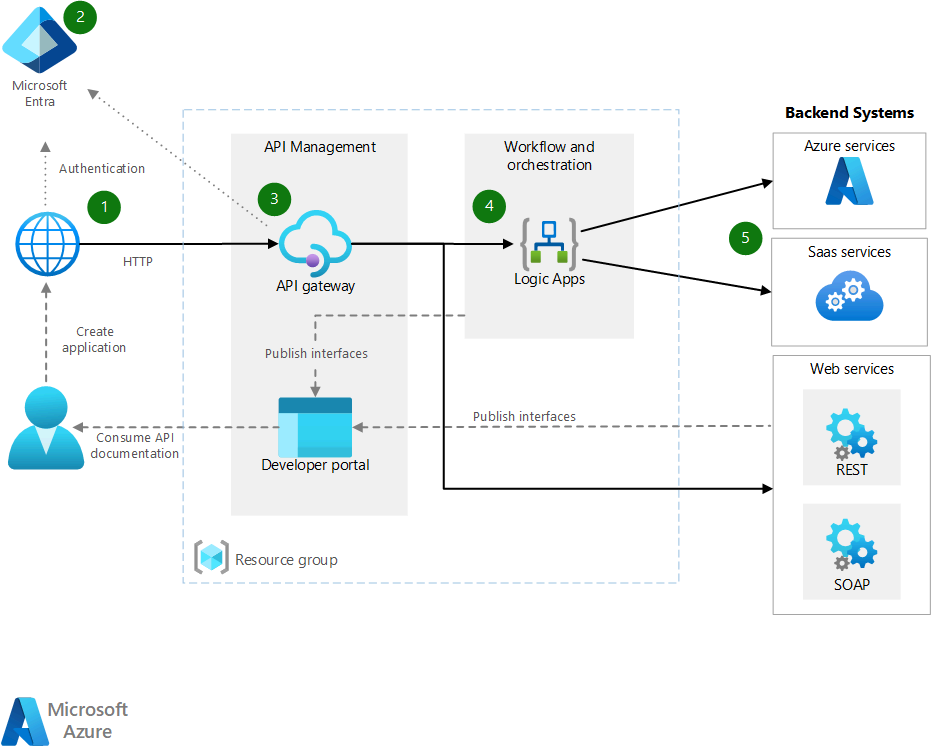API: (771, 356, 929, 614), (226, 132, 409, 302), (771, 238, 932, 348)
Aplicação: (457, 130, 640, 342), (235, 375, 405, 502), (773, 132, 924, 227), (4, 0, 98, 109)
Servidores: (6, 130, 181, 306)
Usuarios: (4, 348, 183, 487)
